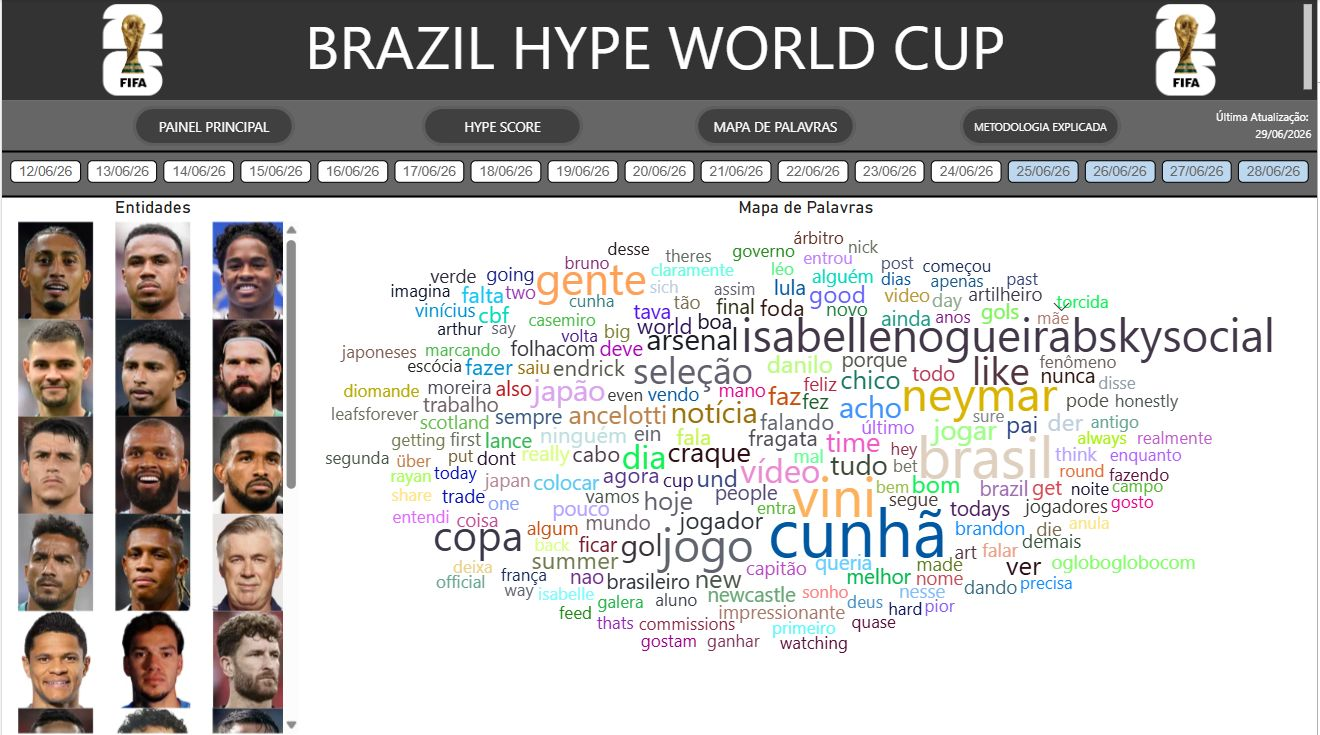

Layout of this report page (visuals, bound fields, positions):
{"tool":"powerbi","page":{"name":"Página 3","canvas":[1280,720],"ordinal":2},"visuals":[{"type":"WordCloud1447959067750","title":"Mapa de Palavras","fields":{"Category":["df_obt.adjetivos_chave"]},"box":[294,192.7,977.3,527.6],"z":0},{"type":"textbox","box":[0,0,1279.5,98.9],"z":1000},{"type":"textbox","box":[0,98.9,1279.5,50],"z":2000},{"type":"image","box":[82.7,0,88.6,98.9],"z":2002,"group":"g2"},{"type":"image","box":[1107.7,0,88.6,98.9],"z":2012,"group":"g2"},{"type":"group","id":"g1","title":"Grupo 2","box":[82.7,0,1113.7,143],"z":3000},{"type":"actionButton","box":[127.3,104.1,157.6,38.9],"z":4000,"group":"g1"},{"type":"ImageGrid_FC5183B9_926C_45E0_B5F7_0CE9EAF1DA9B","title":"Entidades","fields":{"ImageURL":["imagens_prontas_powerbi.Column2"]},"box":[0,192.7,294,526.6],"z":4000},{"type":"group","id":"g2","title":"Grupo 1","box":[82.7,0,1113.6,98.9],"z":5000,"group":"g1"},{"type":"ChicletSlicer1448559807354","fields":{"Category":["df_obt.data"]},"box":[0,148.9,1280,43.8],"z":5000},{"type":"shape","box":[0,142.1,1280,12.7],"z":6000},{"type":"actionButton","box":[408.4,104.1,156.6,38.9],"z":7000,"group":"g1"},{"type":"shape","box":[0,185.9,1280,12.7],"z":7000},{"type":"cardVisual","fields":{"Rows":["df_obt.nome_entidade"]},"box":[898.4,171.3,266.7,143.1],"z":8000},{"type":"actionButton","box":[674.9,104.1,156.6,38.9],"z":11000,"group":"g1"},{"type":"actionButton","box":[932.7,104.1,156.6,38.9],"z":18000,"group":"g1"}]}

Visuals, with their boxes in screenshot pixels (x1, y1, x2, y2), scaled from the page's 1280x720 canvas onto the 1320x735 screenshot:
"Mapa de Palavras" WordCloud1447959067750: region(303, 197, 1311, 734)
textbox: region(0, 0, 1319, 101)
textbox: region(0, 101, 1319, 152)
image: region(85, 0, 177, 101)
image: region(1142, 0, 1234, 101)
"Grupo 2" group: region(85, 0, 1234, 146)
actionButton: region(131, 106, 294, 146)
"Entidades" ImageGrid_FC5183B9_926C_45E0_B5F7_0CE9EAF1DA9B: region(0, 197, 303, 734)
"Grupo 1" group: region(85, 0, 1234, 101)
ChicletSlicer1448559807354 - df_obt.data: region(0, 152, 1319, 197)
shape: region(0, 145, 1319, 158)
actionButton: region(421, 106, 583, 146)
shape: region(0, 190, 1319, 203)
cardVisual - df_obt.nome_entidade: region(926, 175, 1202, 321)
actionButton: region(696, 106, 857, 146)
actionButton: region(962, 106, 1123, 146)
